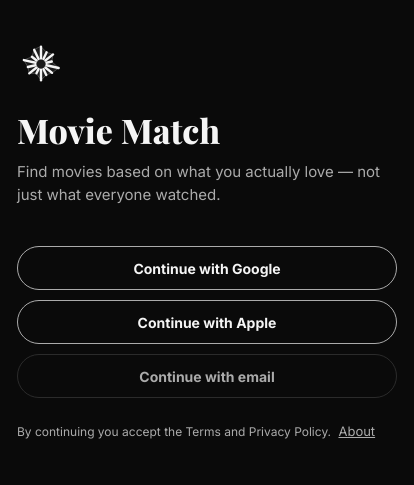
Test: Welcome › says a provider is not switched on, in words, not the SDK's message
Click the button "Continue with Apple" at [207, 322], box x1=17 y1=300 x2=397 y2=344
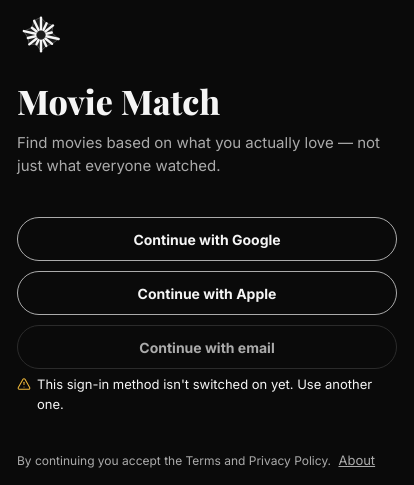
Check: the message does not show "Unsupported provider", box x1=17 y1=375 x2=397 y2=414
Check: the message shows "This sign-in method isn't switched on yet.", box x1=37 y1=376 x2=372 y2=412
